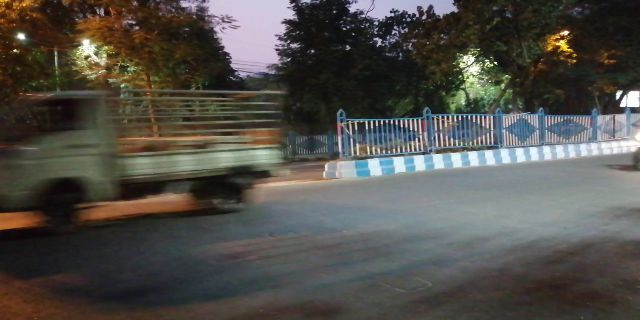Minitruck: (18, 87, 284, 224)
